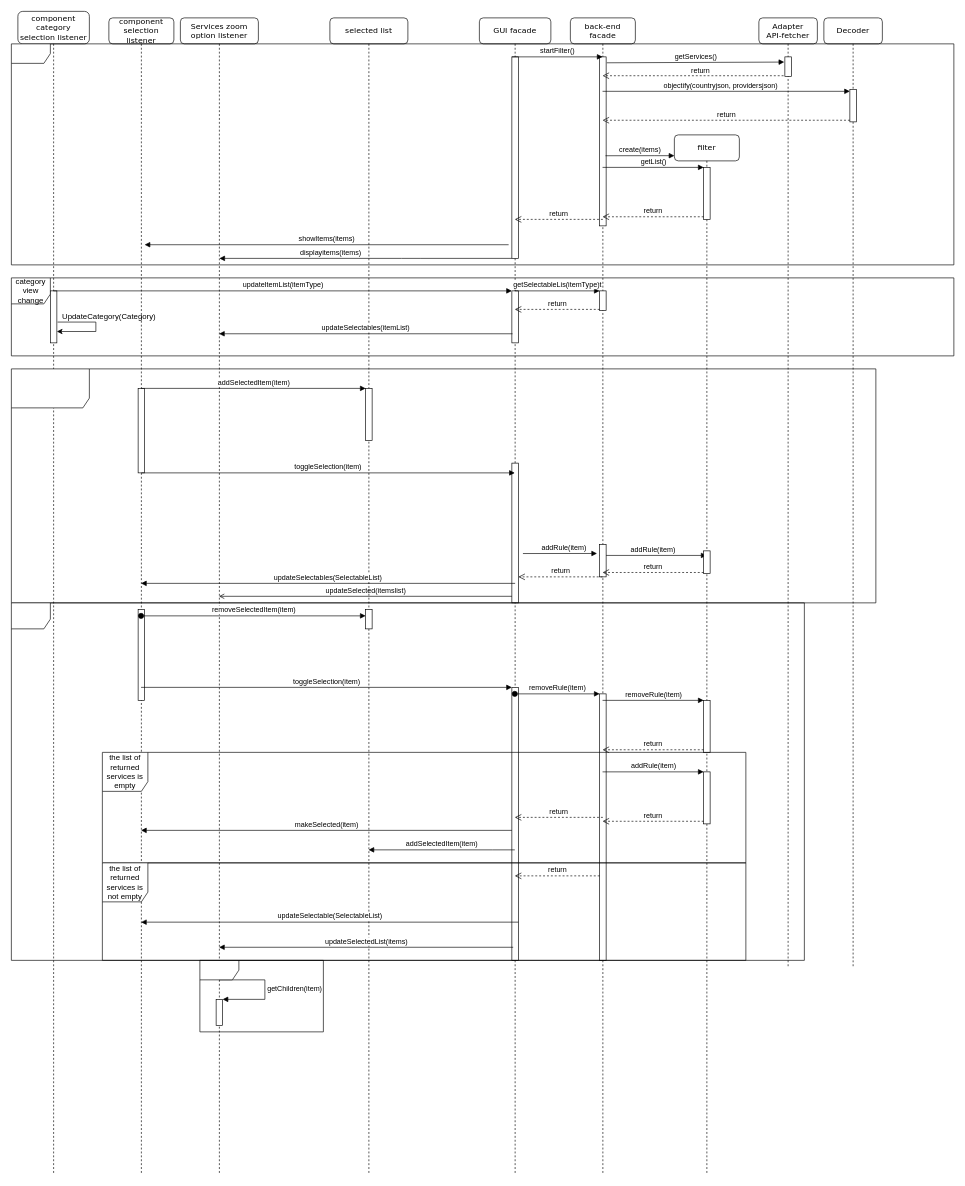
The diagram is 965 pixels wide and 1186 high, and some of its shapes have lost their labels. The shapes that lost their labels are listed below. From the top down, each one's centre as x and y in pixels, then its label:
[482,154]: filtering start
[443,485]: item selection event
[407,781]: removing a selection
[261,996]: Selected view
